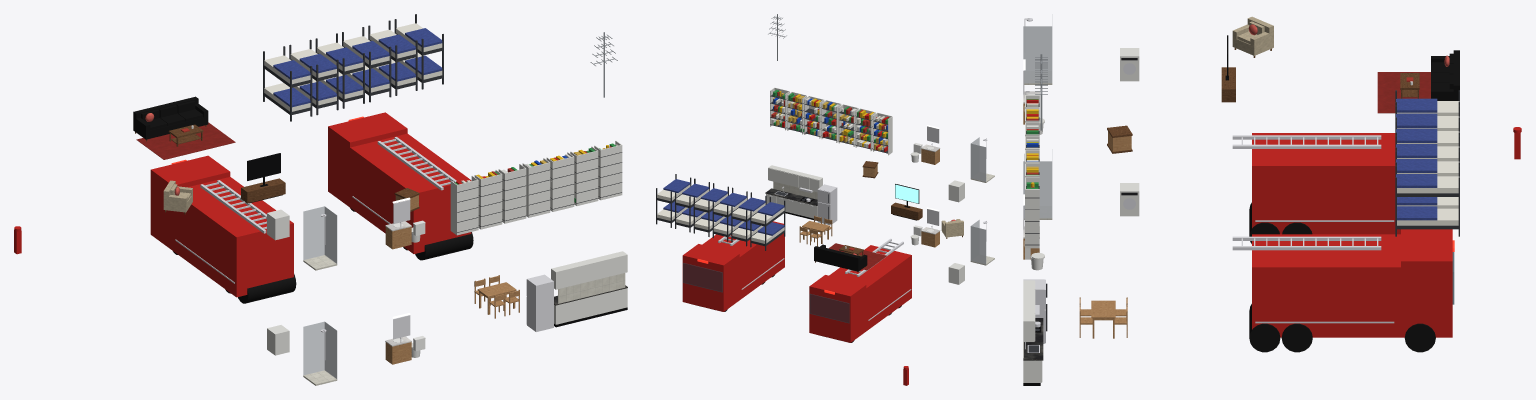
The model's file is i_fire_station.gltf.
The picture shows the model from 3 angles, left to right: view 1: azimuth 30°, elevation 25°; view 2: azimuth 150°, elevation 25°; view 3: azimuth 270°, elevation 25°; orthographic projection. The views are drawn at different scales.
Visible parts, largest first — view 1: I_fire_station; view 2: I_fire_station; view 3: I_fire_station.
Boxes of the visible parts, <box> form: I_fire_station: <box>14,14,627,385</box>; I_fire_station: <box>656,14,994,385</box>; I_fire_station: <box>1023,14,1521,385</box>.
Bounding box in the file's own units: 16.8 × 11 × 15.39.
31 materials, 10 textured.
